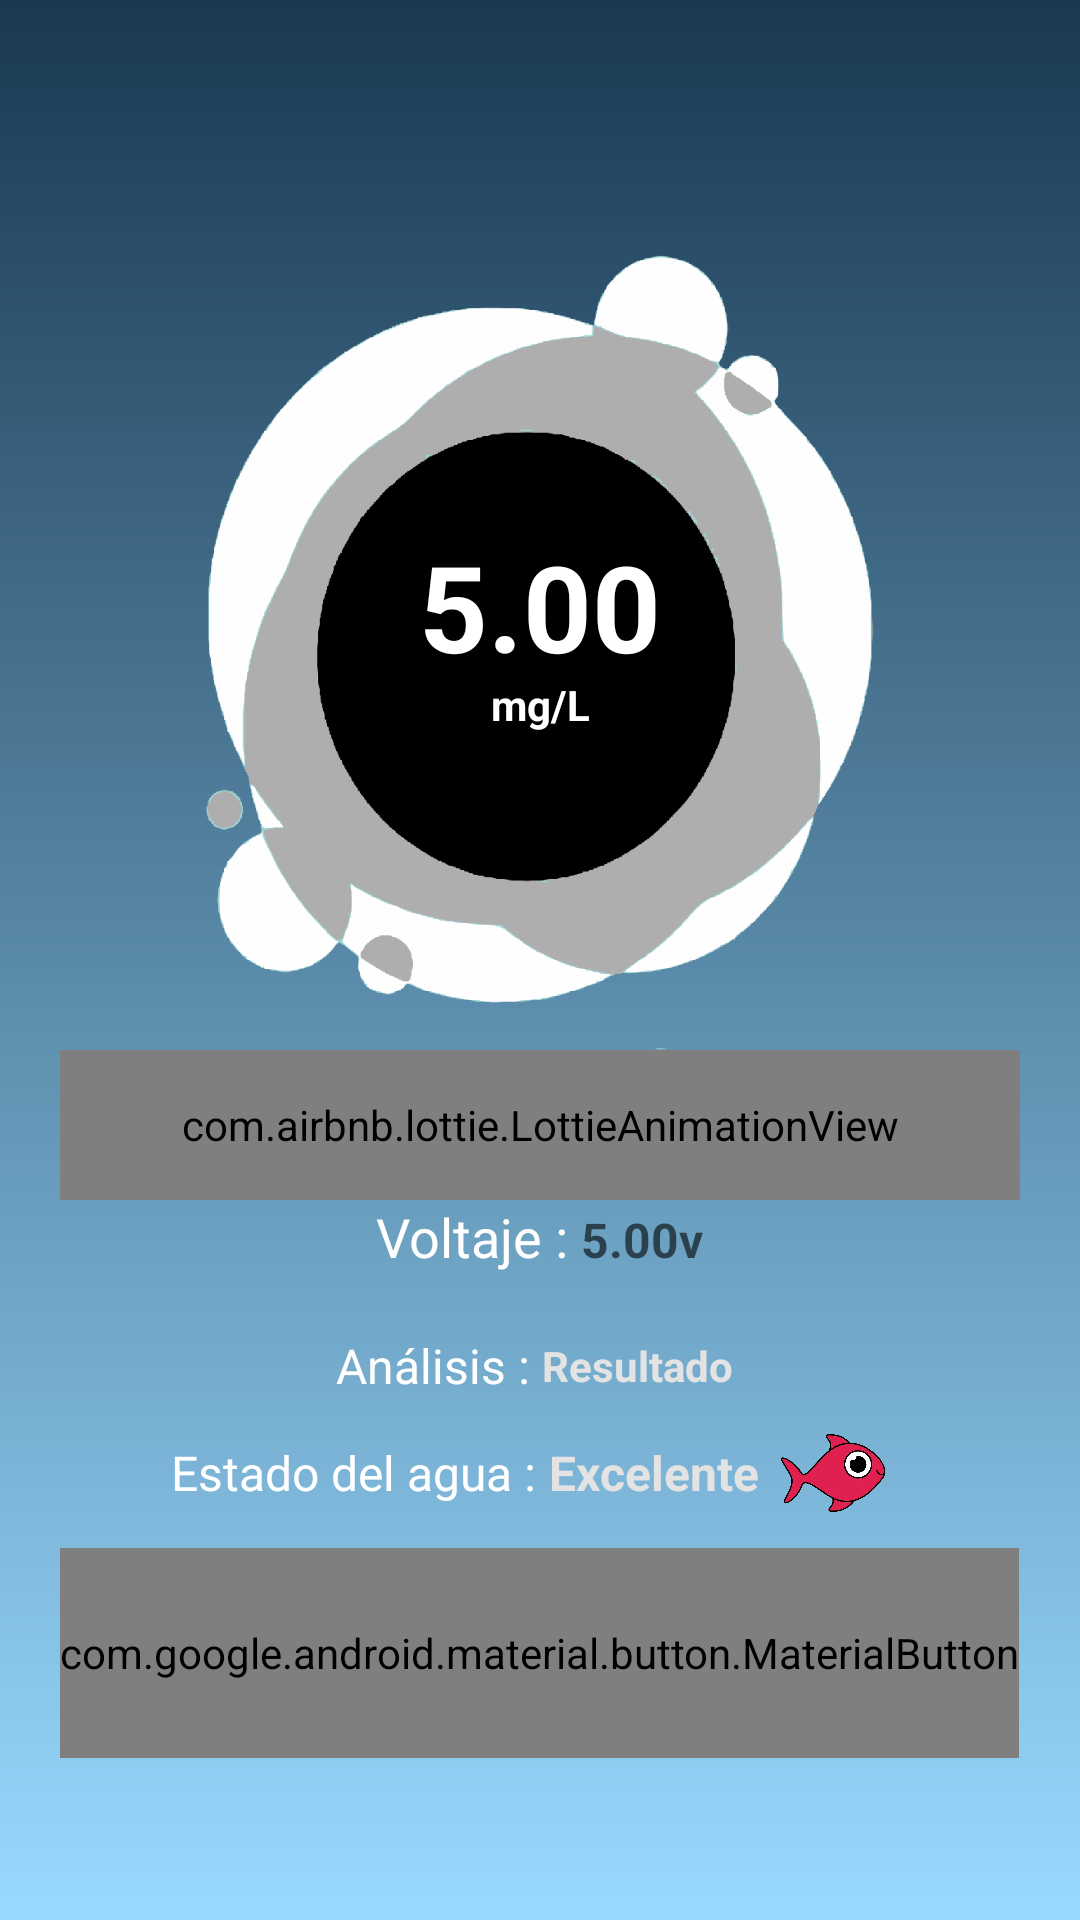

Named icons in this screenshot (1080 x 1920) and their bounding boxes, (x1, y1, x2, y2):
pezbien: (781, 1434, 885, 1512)
